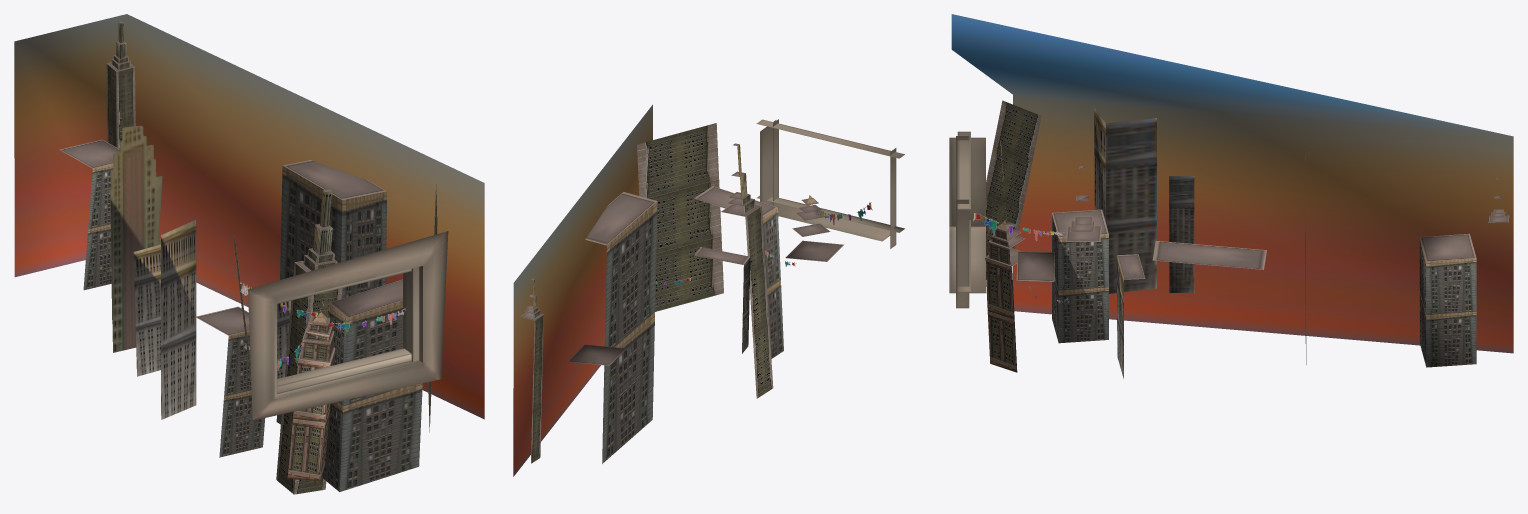
File: cityView.glb
3 renders of one model, left to right at view 1: azimuth 30°, elevation 25°; view 2: azimuth 150°, elevation 25°; view 3: azimuth 270°, elevation 25°, orthographic. The views are drawn at different scales.
Parts seen in each view (by area): view 1: sky, WindowFrame, CityBuilding3, CityBuilding6, CityBuilding8, CityBuilding7, CityBuilding2, CityBuilding4, CityBuilding23, CityBuilding9, polySurface3, CityBuilding22 (+4 smaller); view 2: sky, CityBuilding6, CityBuilding11, CityBuilding2, CityBuilding3, WindowFrame, CityBuilding22, CityBuilding5, windowBar, CityBuilding4, CityBuilding23, windowBar2 (+2 smaller); view 3: sky, CityBuilding7, CityBuilding23, CityBuilding4, CityBuilding10, WindowFrame, polySurface3, CityBuilding9, CityBuilding6, windowBar3, CityBuilding5, CityBuilding3 (+2 smaller).
Boxes of the visible parts, left/top/right/bottom form: sky: left=14, top=14, right=484, bottom=419; WindowFrame: left=248, top=231, right=448, bottom=420; CityBuilding3: left=321, top=279, right=422, bottom=491; CityBuilding6: left=276, top=160, right=387, bottom=424; CityBuilding8: left=110, top=125, right=162, bottom=352; CityBuilding7: left=161, top=219, right=196, bottom=419; CityBuilding2: left=276, top=189, right=342, bottom=494; CityBuilding4: left=195, top=306, right=265, bottom=457; CityBuilding23: left=59, top=139, right=119, bottom=290; CityBuilding9: left=133, top=244, right=160, bottom=376; polySurface3: left=287, top=347, right=335, bottom=482; CityBuilding22: left=106, top=21, right=135, bottom=148; sky: left=513, top=104, right=652, bottom=476; CityBuilding6: left=585, top=192, right=657, bottom=463; CityBuilding11: left=637, top=123, right=723, bottom=311; CityBuilding2: left=721, top=143, right=773, bottom=398; CityBuilding3: left=694, top=186, right=783, bottom=358; WindowFrame: left=760, top=120, right=890, bottom=241; CityBuilding22: left=520, top=278, right=543, bottom=463; CityBuilding5: left=694, top=247, right=750, bottom=353; windowBar: left=756, top=119, right=904, bottom=158; CityBuilding4: left=785, top=240, right=843, bottom=261; CityBuilding23: left=567, top=344, right=625, bottom=365; windowBar2: left=757, top=195, right=904, bottom=232; sky: left=951, top=14, right=1513, bottom=353; CityBuilding7: left=1094, top=107, right=1156, bottom=293; CityBuilding23: left=1419, top=233, right=1476, bottom=367; CityBuilding4: left=1052, top=209, right=1108, bottom=343; CityBuilding10: left=986, top=100, right=1041, bottom=256; WindowFrame: left=949, top=137, right=985, bottom=293; polySurface3: left=985, top=248, right=1020, bottom=372; CityBuilding9: left=1169, top=176, right=1194, bottom=292; CityBuilding6: left=1152, top=241, right=1266, bottom=269; windowBar3: left=956, top=199, right=969, bottom=308; CityBuilding5: left=1117, top=254, right=1145, bottom=378; CityBuilding3: left=1016, top=251, right=1054, bottom=281.
Size of the model in its own units: 16.07 by 22.15 by 28.4.
8 materials, 8 textured.
